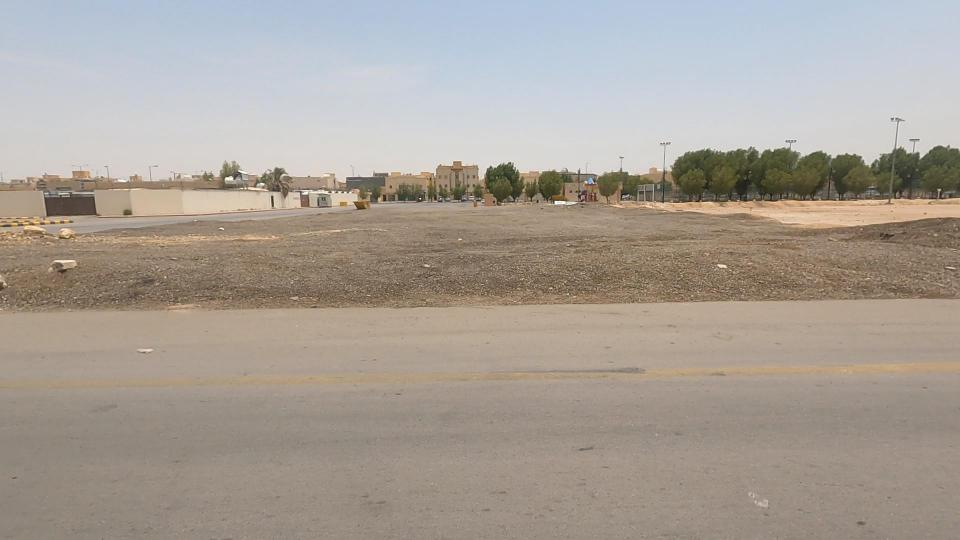GARBAGE: (111, 324, 184, 372), (379, 247, 461, 286), (684, 244, 758, 282)
